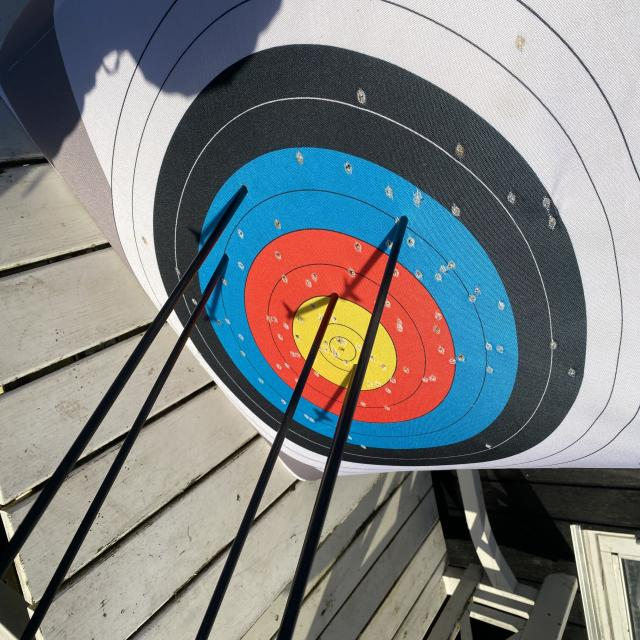Arrow_Blue: (222, 176, 273, 212), (385, 201, 417, 249), (213, 247, 237, 280)
Arrow_Red: (312, 286, 349, 313)
Arrow_Yellow: (345, 348, 361, 381)
